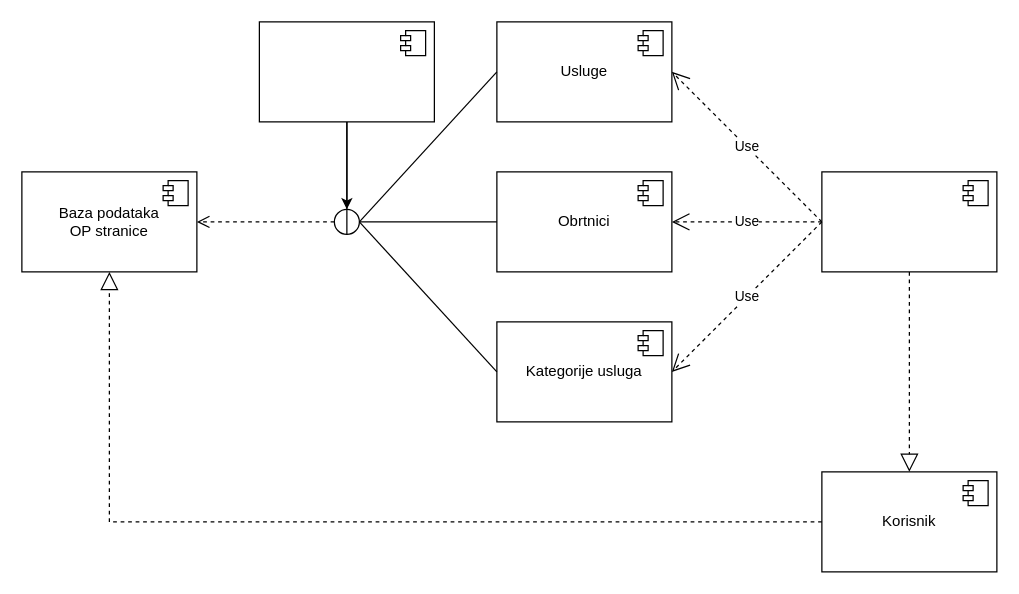
This 1019x594 diagram has some shape labels left out. Here are the shapes that lost their labels. From the top down, the centre of each, then its label:
the point at 346,71: Sustavno pretraživanje
the point at 909,221: Pregled
